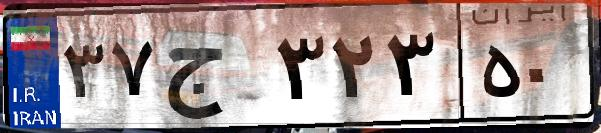0: (525, 38, 570, 115)
2: (330, 28, 385, 110)
3: (270, 28, 330, 110), (385, 28, 445, 110), (57, 26, 110, 100)
5: (475, 38, 525, 113)
7: (110, 28, 158, 98)
ج: (158, 20, 270, 120)
